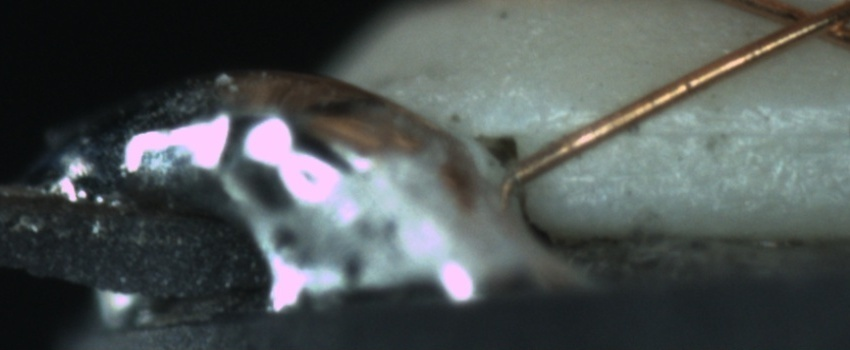CL: (759, 1, 848, 47)
DL: (612, 95, 844, 164)
